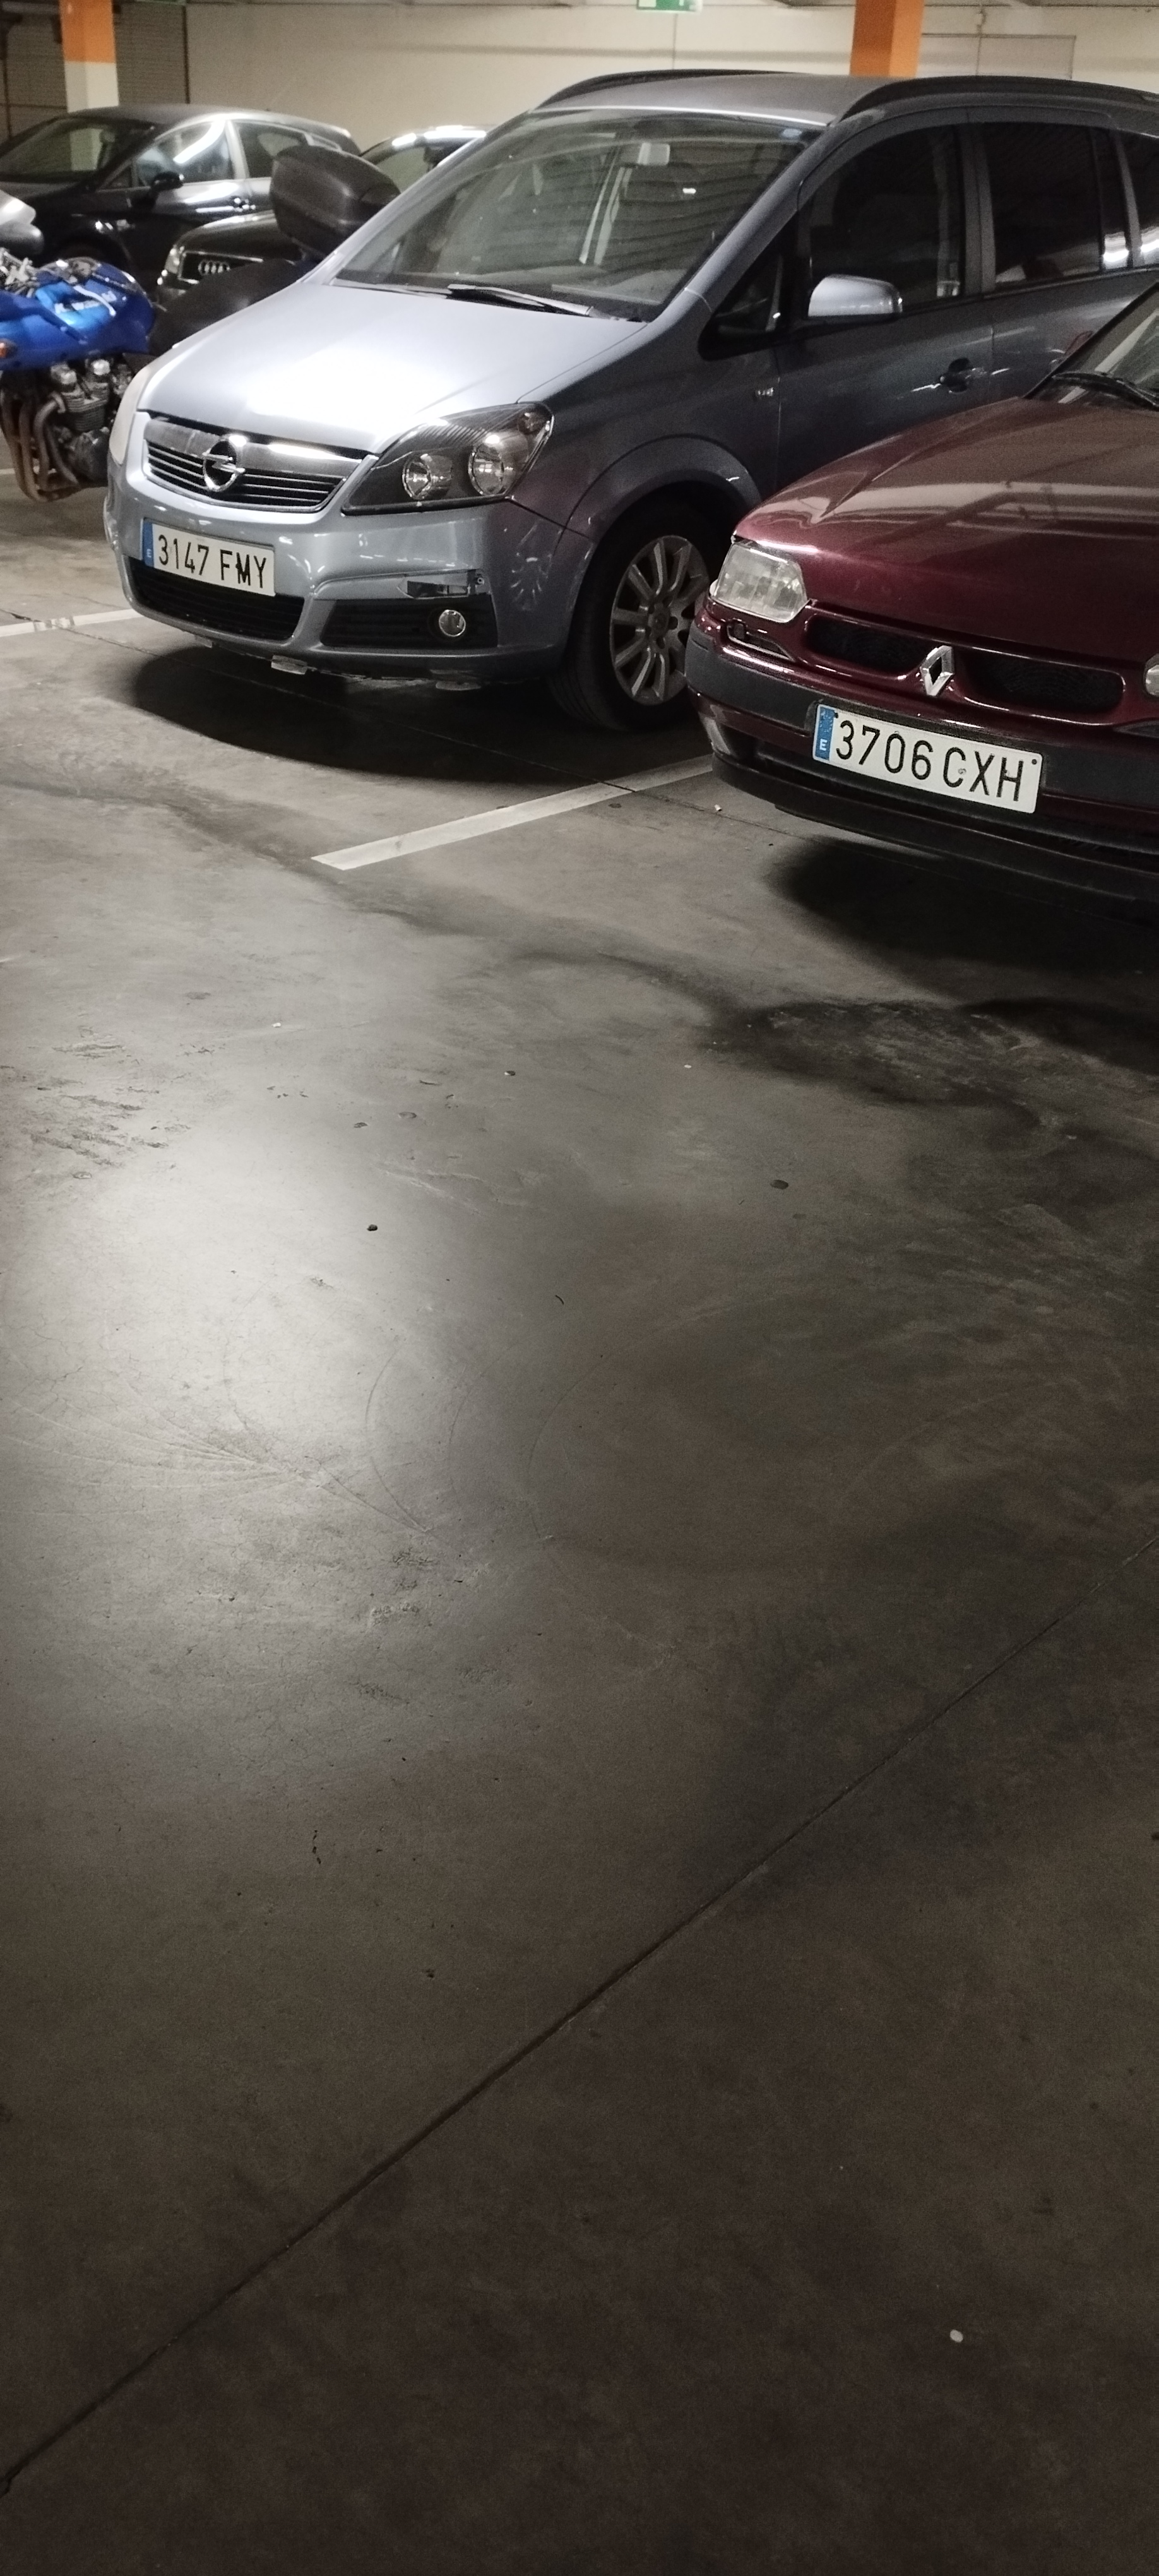Car: (111, 74, 881, 683)
Plate: (809, 698, 1042, 761), (146, 515, 298, 569)
